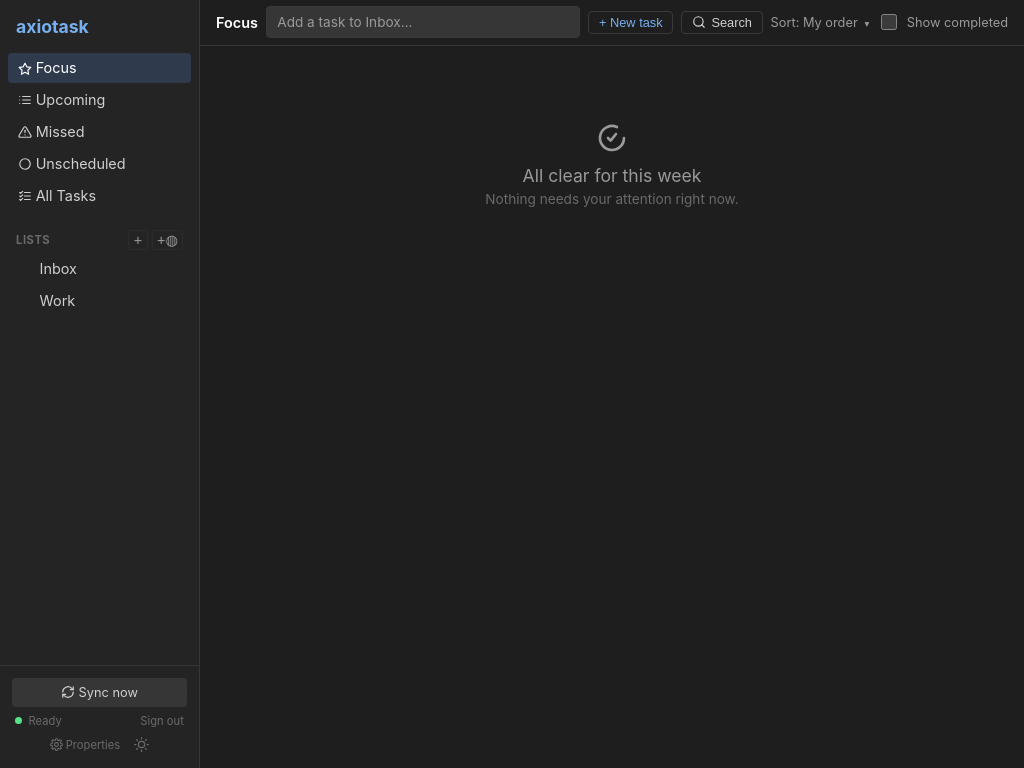
Scenario: GH#3: Sync Pull › shows Sync error on failure
Click the button "Sync now" at (100, 693), box [12,678,187,707]
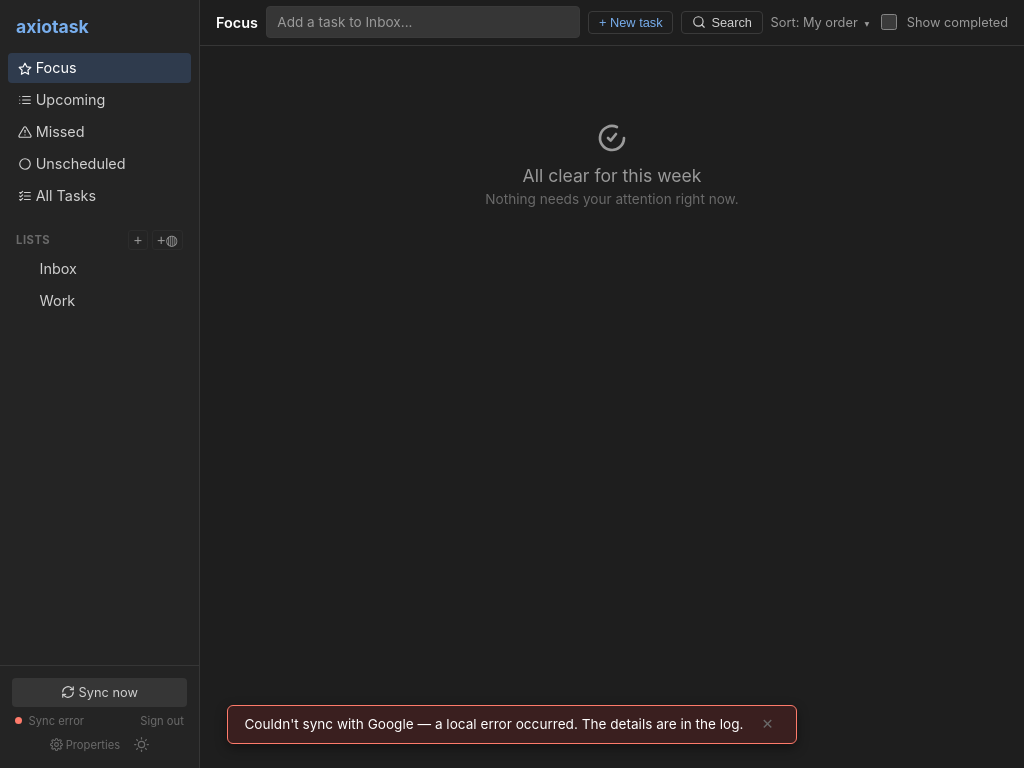
Now the text "Sync error" is shown, box [29,714,84,728]
